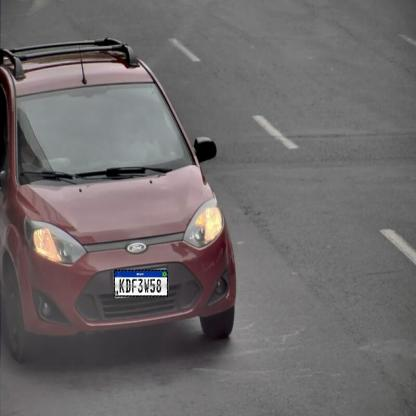PlacaM: (114, 270, 168, 297)
